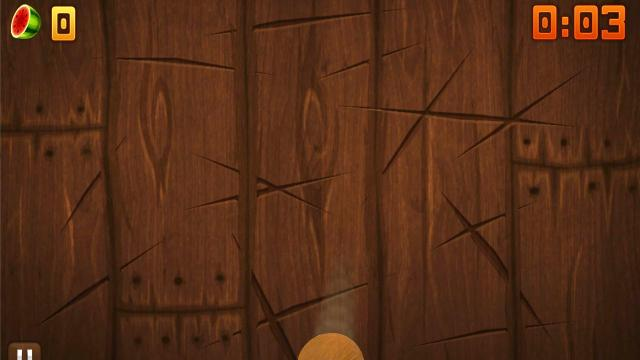fruit: (298, 334, 366, 360)
ignore: (8, 3, 44, 41)
